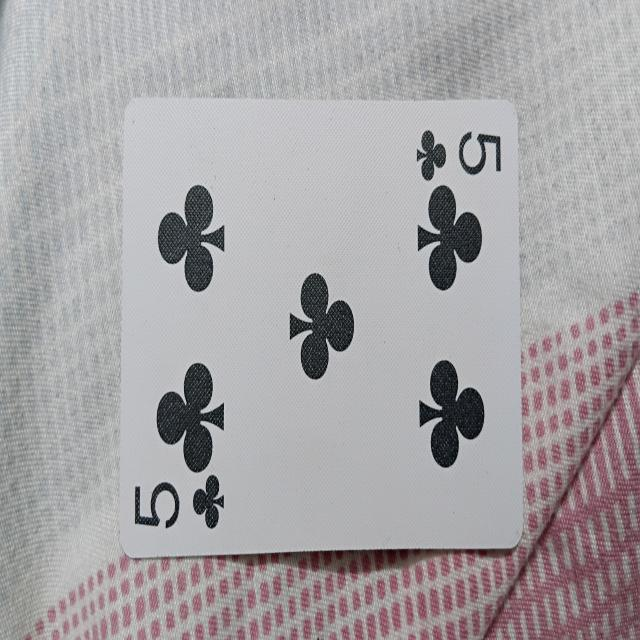5C: (119, 94, 527, 556)
